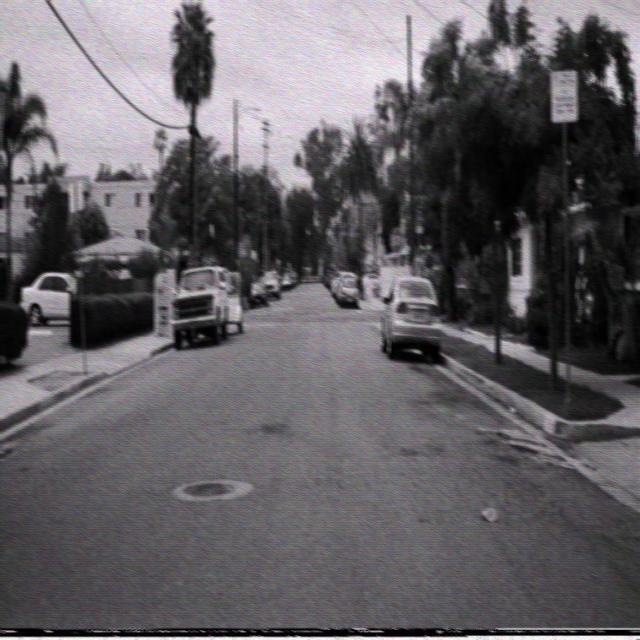stop: (388, 225, 404, 252)
